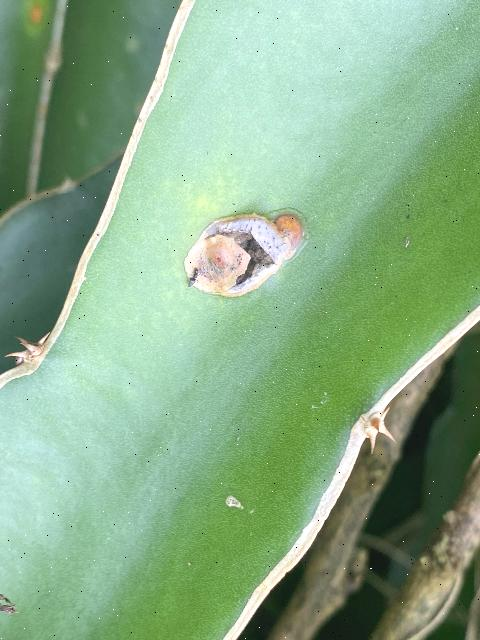stemcanker: (177, 206, 310, 300)
